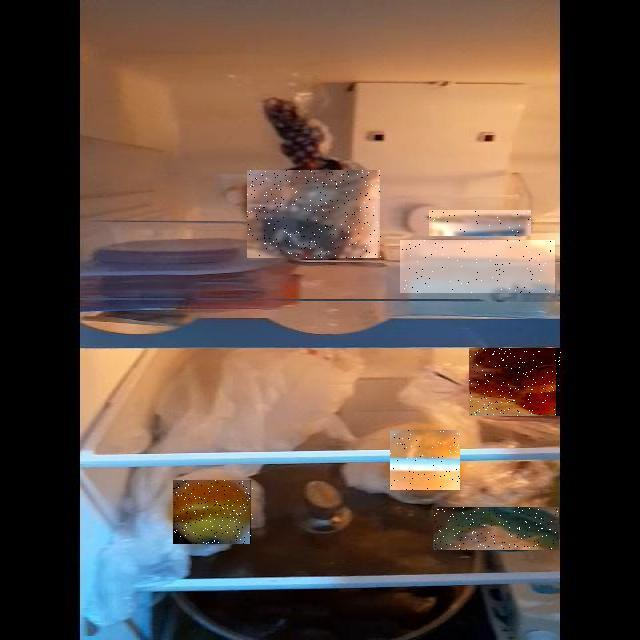carrot: (189, 208, 640, 624)
cheese: (122, 146, 640, 440)
